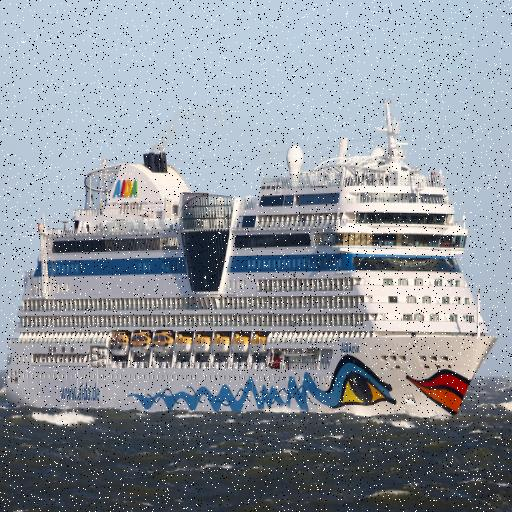cruises: (3, 92, 503, 428)
